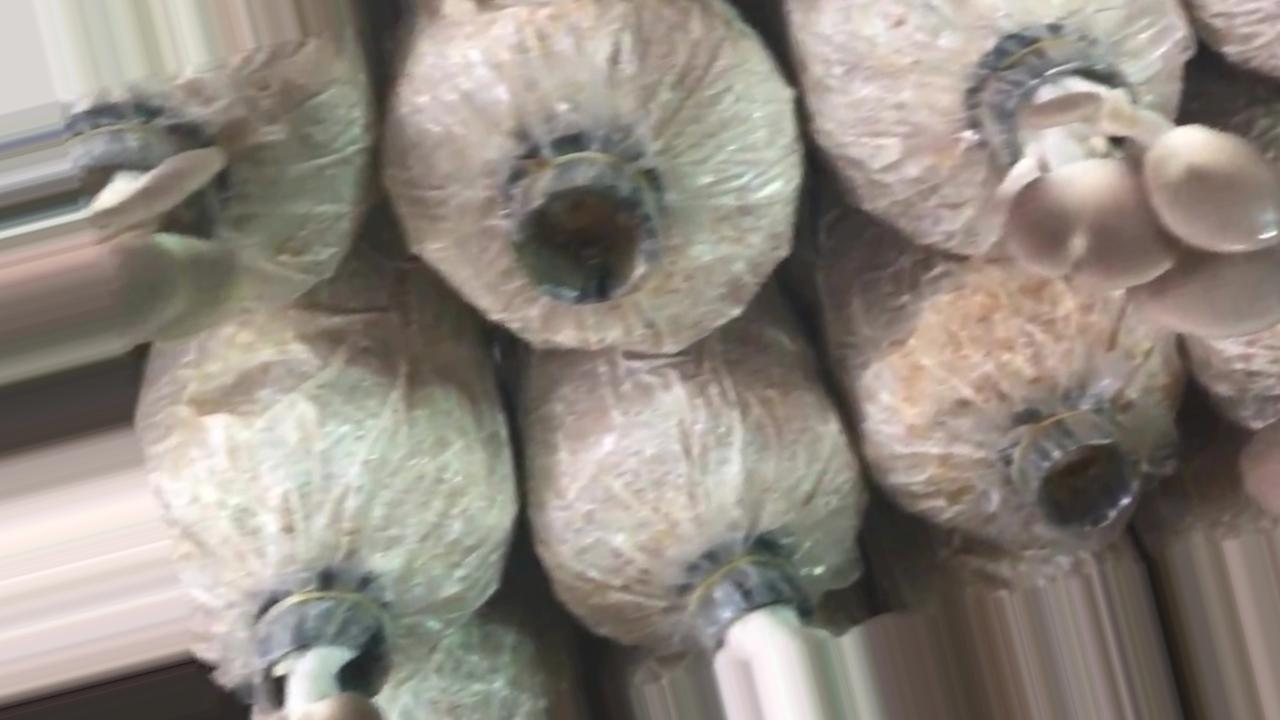nam: (999, 35, 1280, 341), (1, 110, 243, 380), (252, 587, 386, 720)
